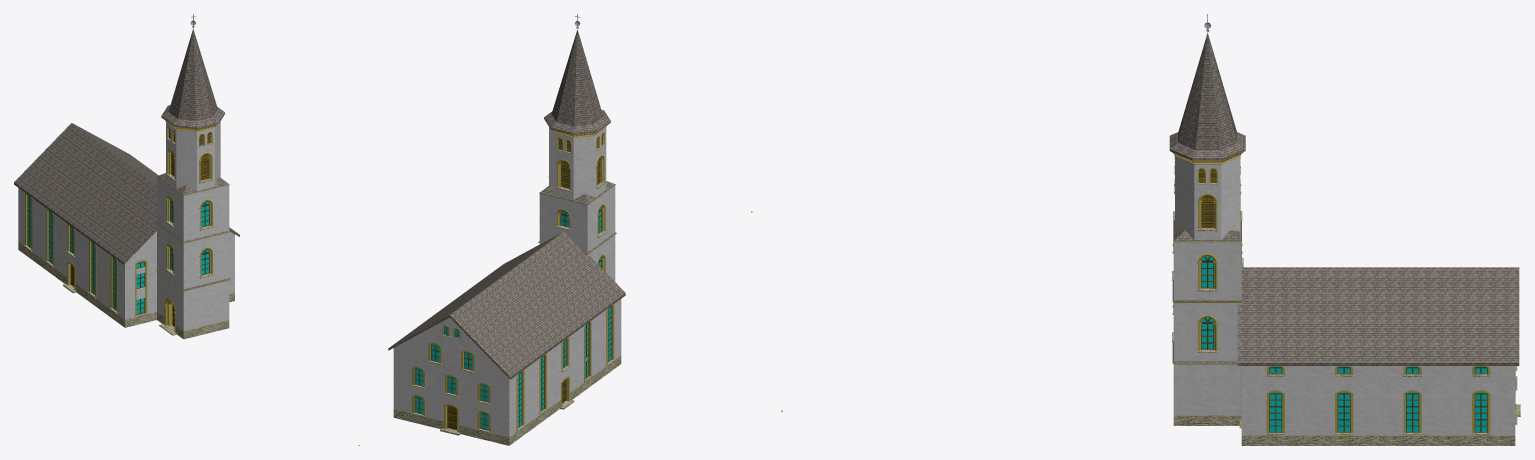
Rendered from budynek.glb.
3 views of the same model, side by side, from view 1: azimuth 30°, elevation 25°; view 2: azimuth 150°, elevation 25°; view 3: azimuth 270°, elevation 25° (orthographic). The views are drawn at different scales.
Bounding box in the file's own units: 13.3 × 33.64 × 56.7.
12 materials, 10 textured.
